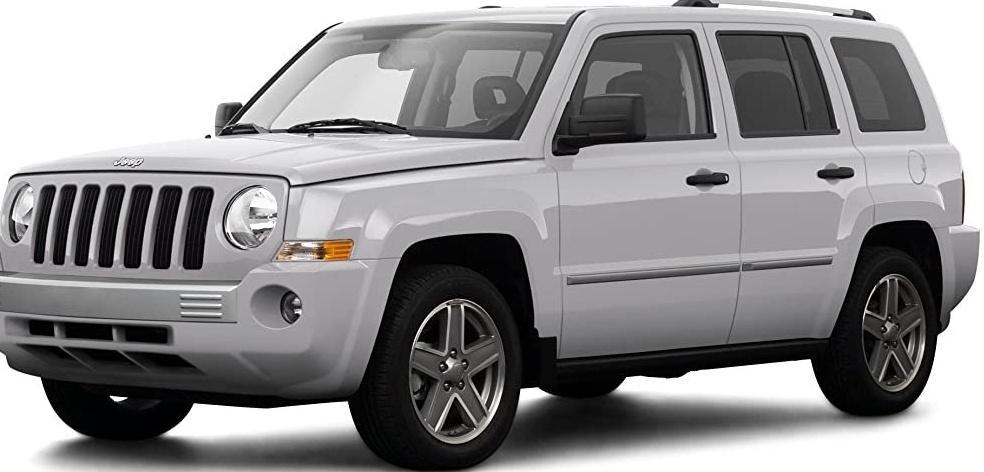SUV: (1, 7, 981, 470)
